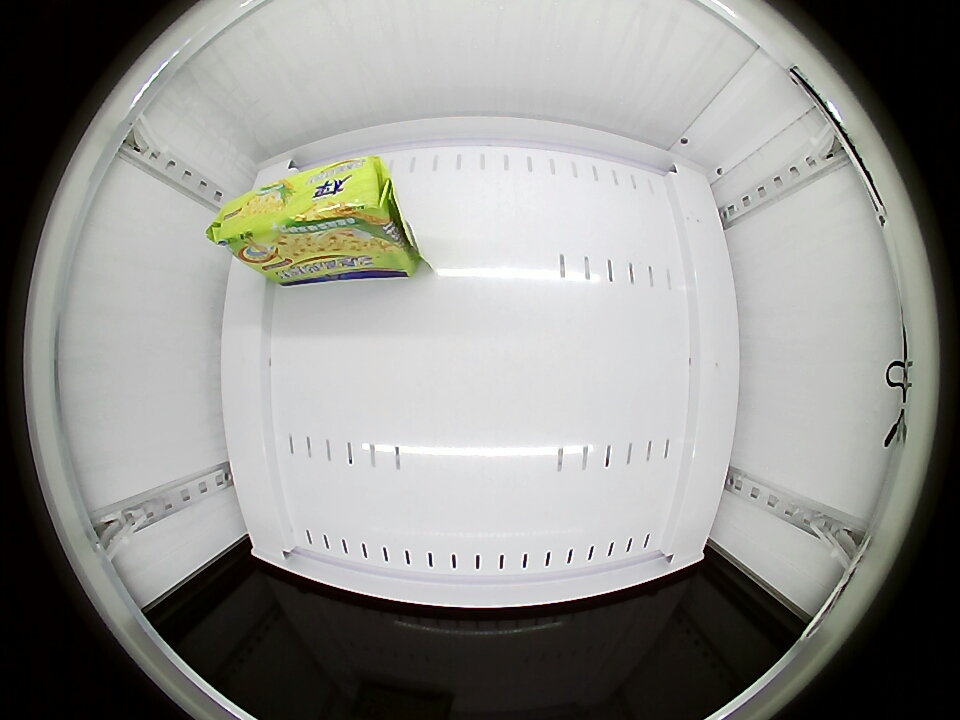taipingshuda: (210, 158, 393, 254)
